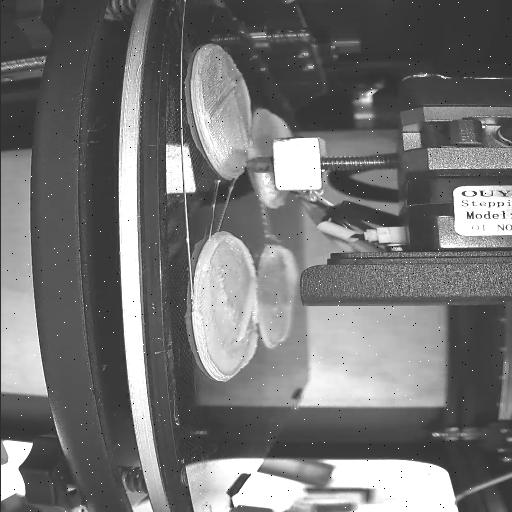over_extrusion: (232, 282, 260, 368), (202, 234, 256, 276), (269, 244, 298, 302)
